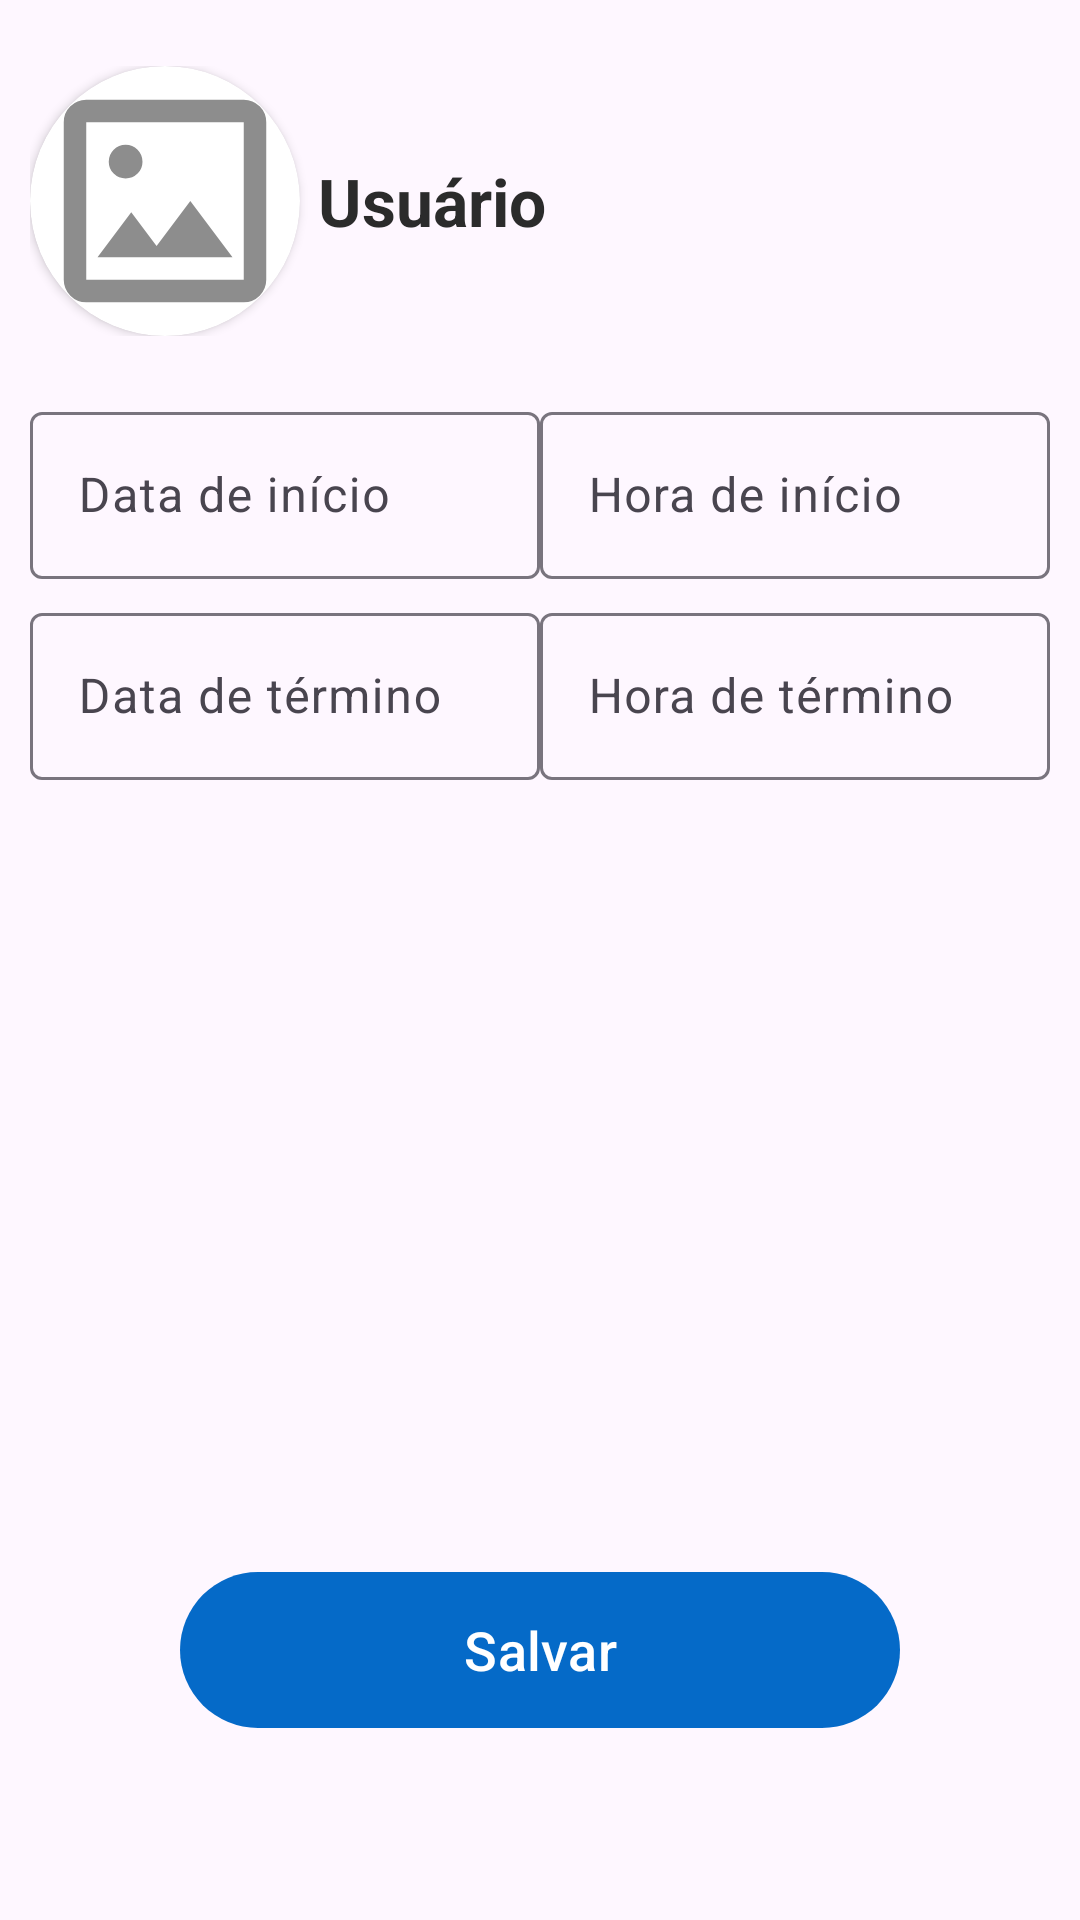

Locate icon controls on the screen. Image size 1080w x 1920h, boxes as [x1, y1, x2, y2].
imagesmode: [30, 66, 300, 336]
